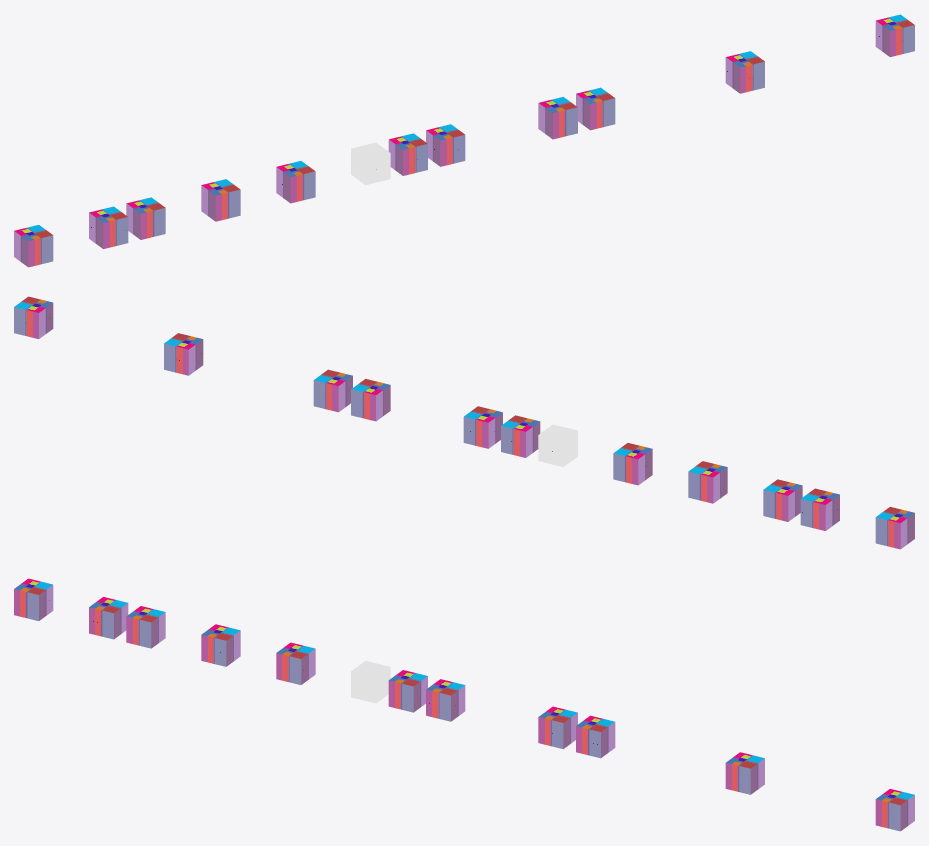
The model's file is robe.glb.
3 views of the same model, one above another, from view 1: azimuth 30°, elevation 25°; view 2: azimuth 150°, elevation 25°; view 3: azimuth 330°, elevation 25° (orthographic).
Size of the model in its own units: 71 by 2 by 2.
12 materials, 11 textured.
